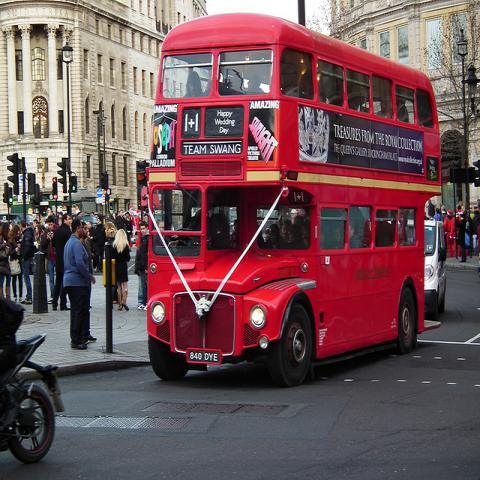bus: (146, 13, 445, 393)
car: (425, 219, 448, 320), (9, 200, 32, 214)
motorcycle: (1, 334, 66, 462)
